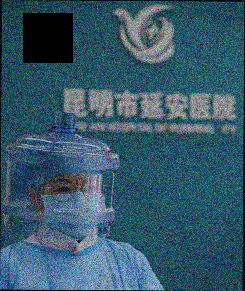with_mask: (41, 174, 106, 243)
